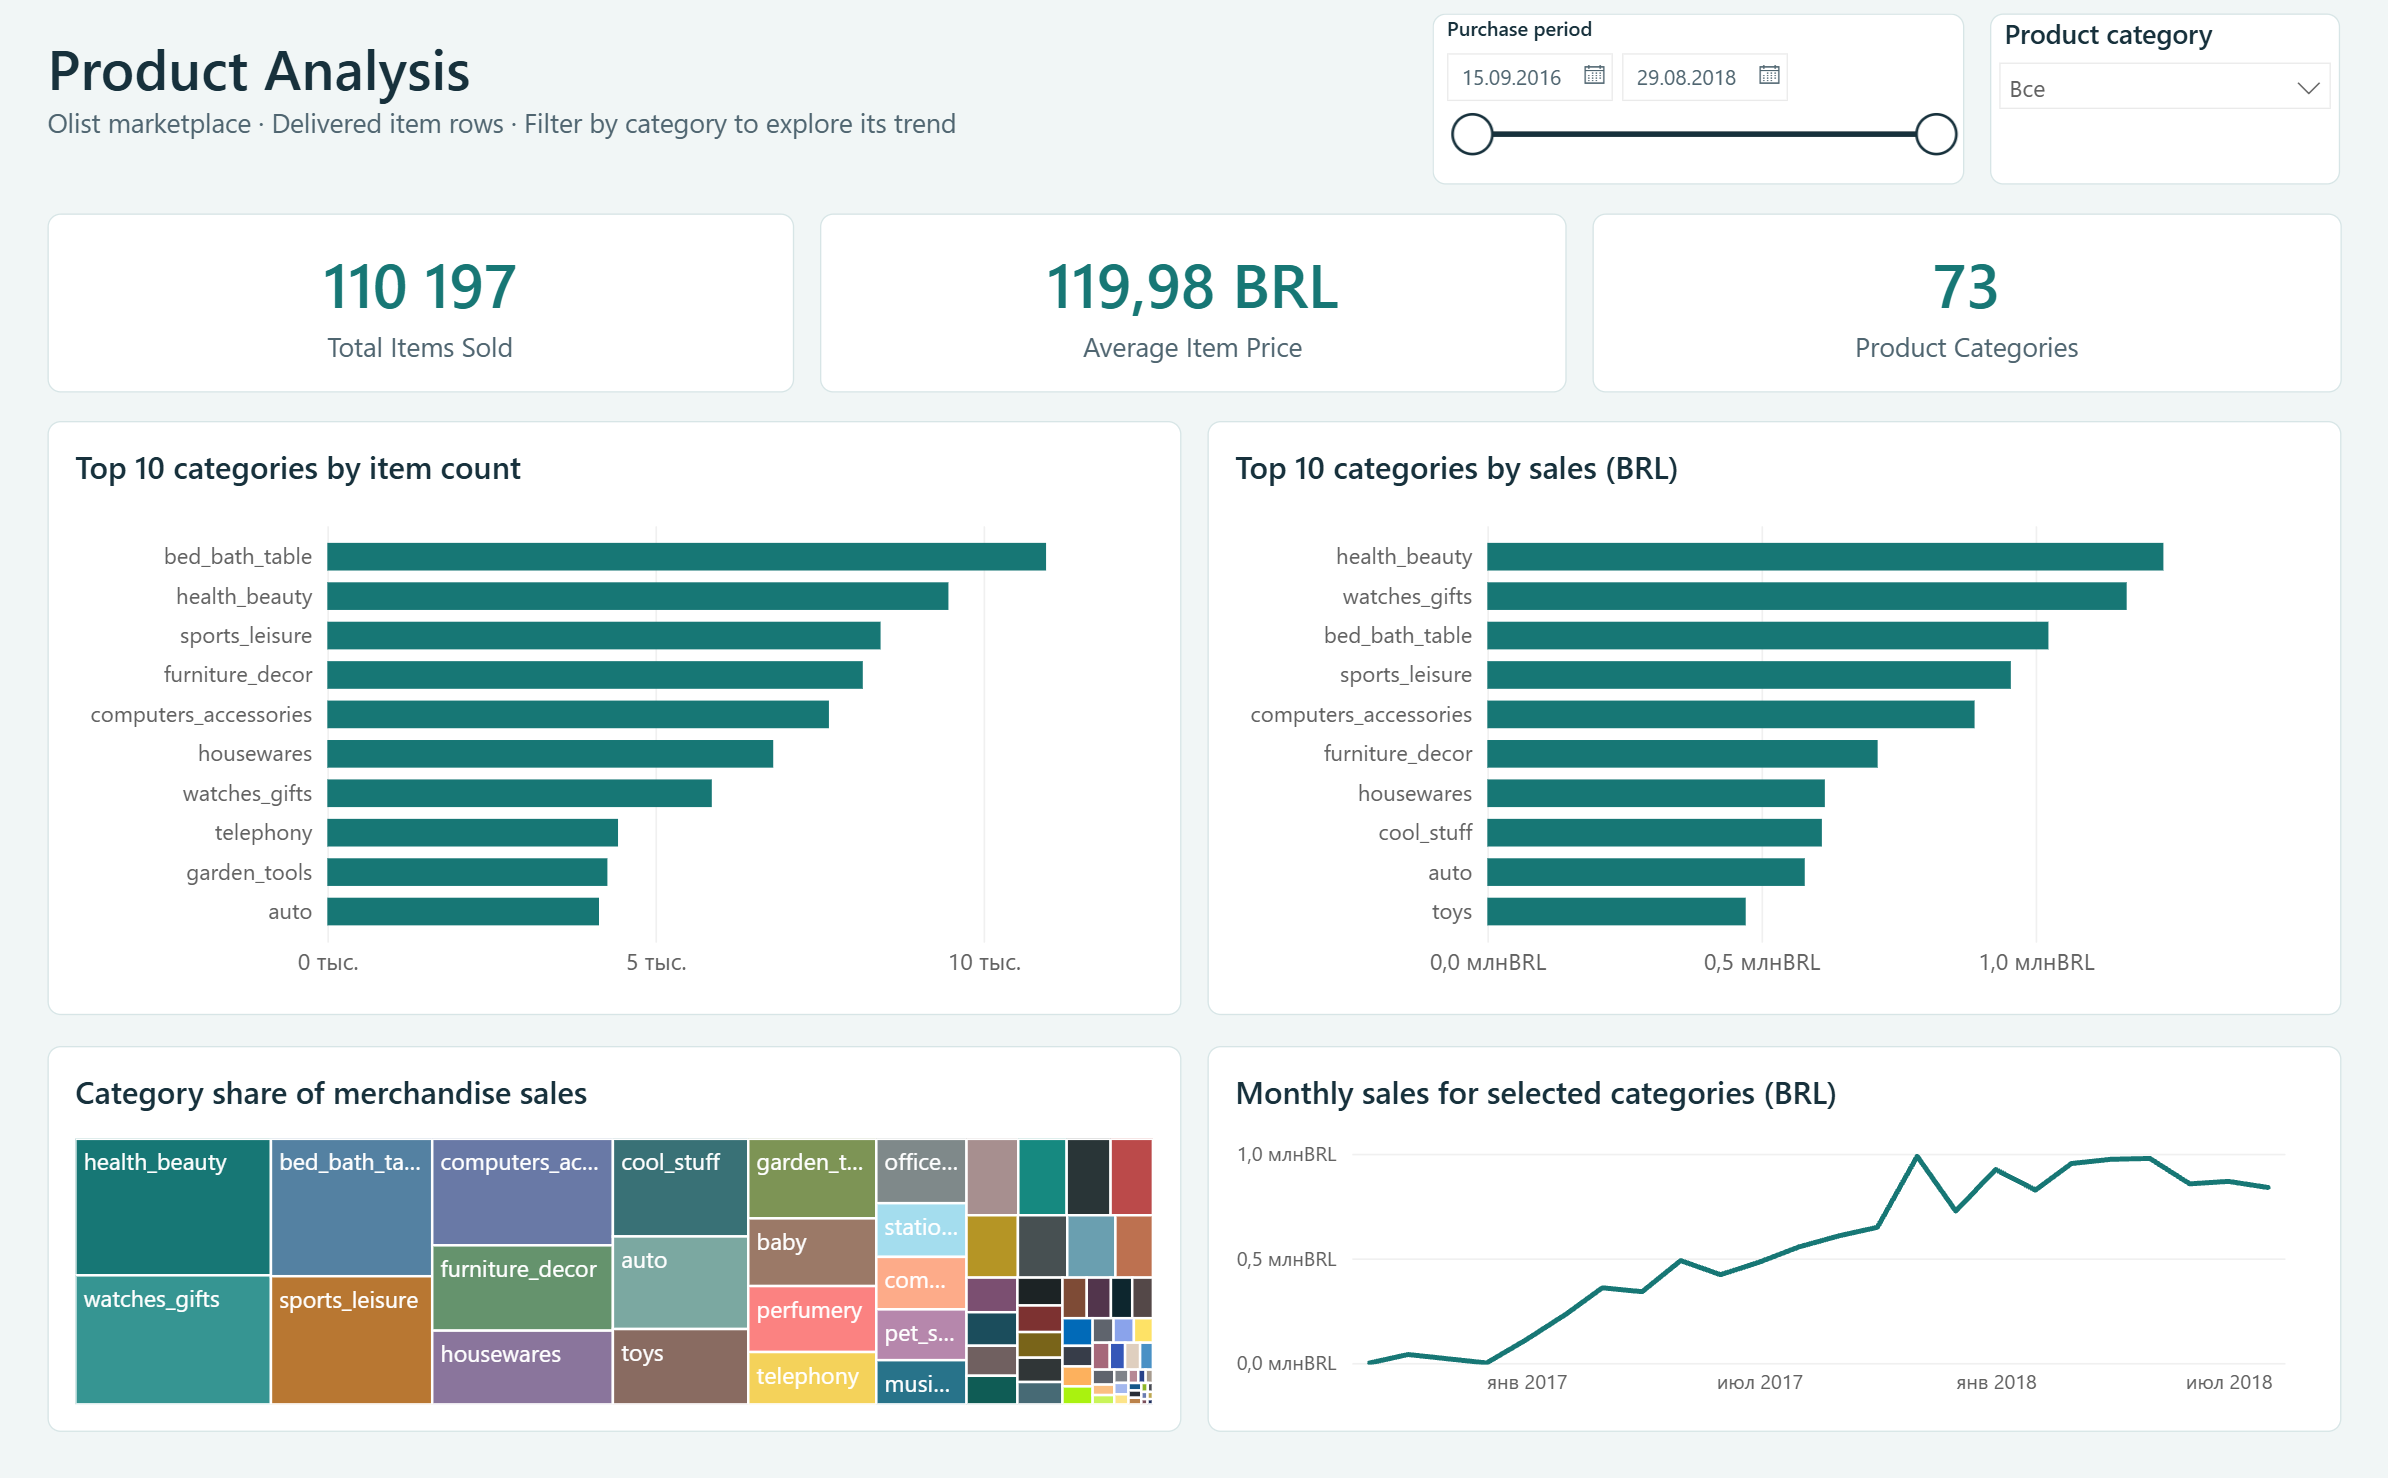

The dashboard page shown, as its layout file describes it:
{"tool":"powerbi","page":{"name":"Product Analysis","canvas":[1440,900],"ordinal":1},"visuals":[{"type":"textbox","box":[28,25,805,81],"z":100},{"type":"slicer","fields":{"Values":["Sales.OrderDate"]},"box":[864,17,321,103],"z":200},{"type":"slicer","fields":{"Values":["Sales.Category"]},"box":[1201,17,211,103],"z":300},{"type":"card","fields":{"Values":["Sales.Total Items Sold"]},"box":[28,137,450,108],"z":400},{"type":"card","fields":{"Values":["Sales.Average Item Price"]},"box":[494,137,450,108],"z":500},{"type":"card","fields":{"Values":["Sales.Product Categories"]},"box":[960,137,452,108],"z":600},{"type":"clusteredBarChart","title":"Top 10 categories by item count","fields":{"Category":["Sales.Category"],"Y":["Sales.Total Items Sold"]},"box":[28,263,684,358],"z":700},{"type":"clusteredBarChart","title":"Top 10 categories by sales (BRL)","fields":{"Category":["Sales.Category"],"Y":["Sales.Total Sales Value"]},"box":[728,263,684,358],"z":800},{"type":"treemap","title":"Category share of merchandise sales","fields":{"Group":["Sales.Category"],"Values":["Sales.Total Sales Value"]},"box":[28,639,684,233],"z":900},{"type":"lineChart","title":"Monthly sales for selected categories (BRL)","fields":{"Category":["Sales.PurchaseMonth"],"Y":["Sales.Total Sales Value"]},"box":[728,639,684,233],"z":1000}]}

Visuals, with their boxes in screenshot pixels (x1, y1, x2, y2), scaled from the page's 1440x900 canvas onto the 2388x1478 screenshot:
textbox: select_region(46, 41, 1381, 174)
slicer - Sales.OrderDate: select_region(1433, 28, 1965, 197)
slicer - Sales.Category: select_region(1992, 28, 2342, 197)
card - Sales.Total Items Sold: select_region(46, 225, 793, 402)
card - Sales.Average Item Price: select_region(819, 225, 1565, 402)
card - Sales.Product Categories: select_region(1592, 225, 2342, 402)
"Top 10 categories by item count" clusteredBarChart: select_region(46, 432, 1181, 1020)
"Top 10 categories by sales (BRL)" clusteredBarChart: select_region(1207, 432, 2342, 1020)
"Category share of merchandise sales" treemap: select_region(46, 1049, 1181, 1432)
"Monthly sales for selected categories (BRL)" lineChart: select_region(1207, 1049, 2342, 1432)
